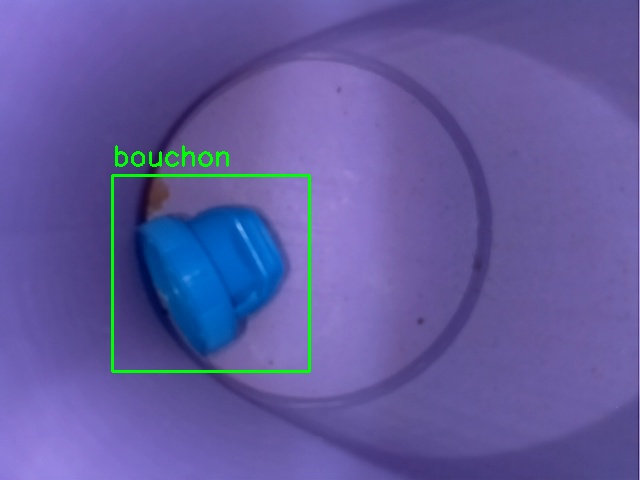bouchon: (112, 175, 309, 371)
